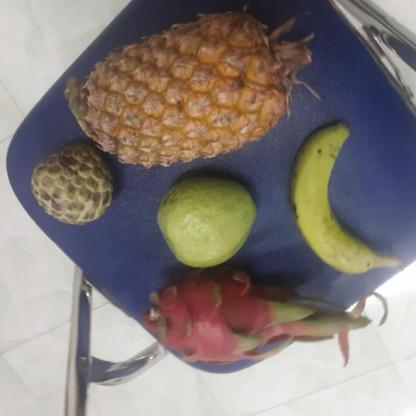annona: (31, 142, 121, 224)
banana: (293, 124, 388, 272)
guava: (158, 176, 259, 265)
pineapple: (80, 19, 308, 167)
pitaya: (148, 265, 302, 367)
